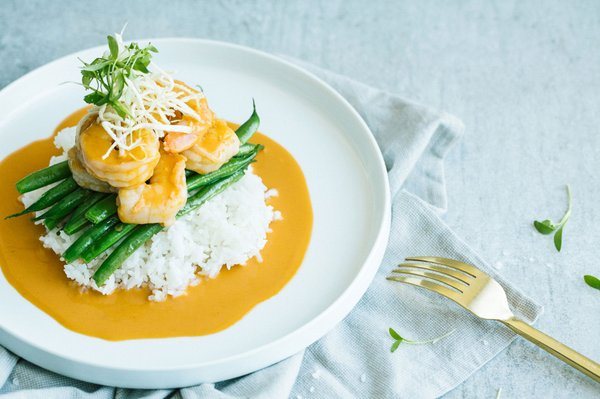salad: (386, 255, 600, 384)
sushi: (1, 27, 394, 389)
